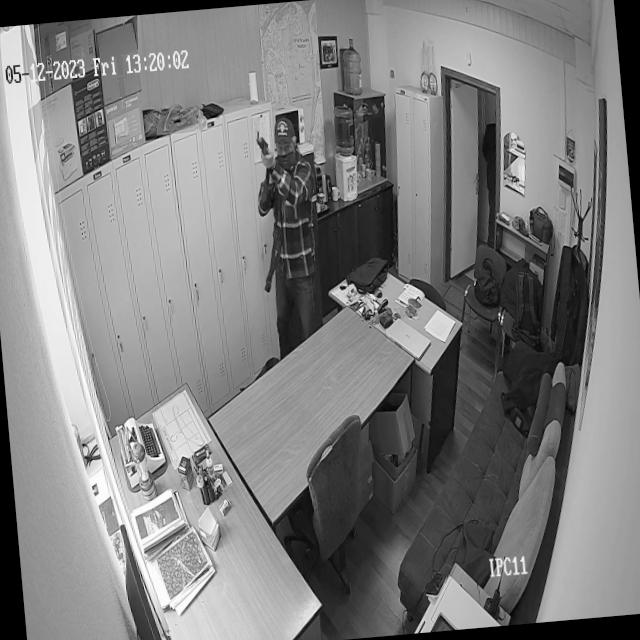gun: (254, 126, 284, 188)
person with a gun: (249, 115, 330, 356)
